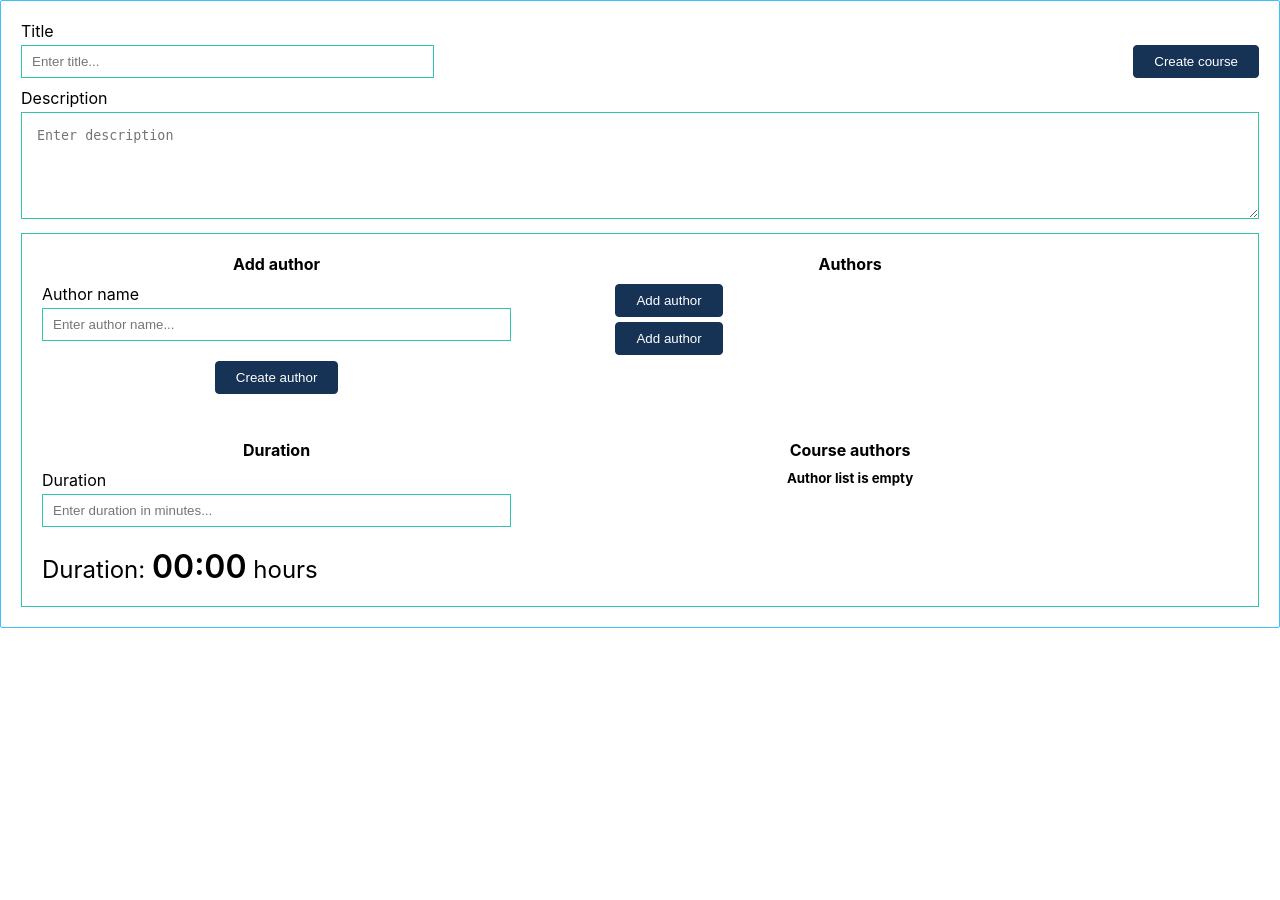
Test: CourseForm 'Delete author' button click should delete an author from the course list
Click the 1st button "Add author": (669, 300) [616,284,723,317]
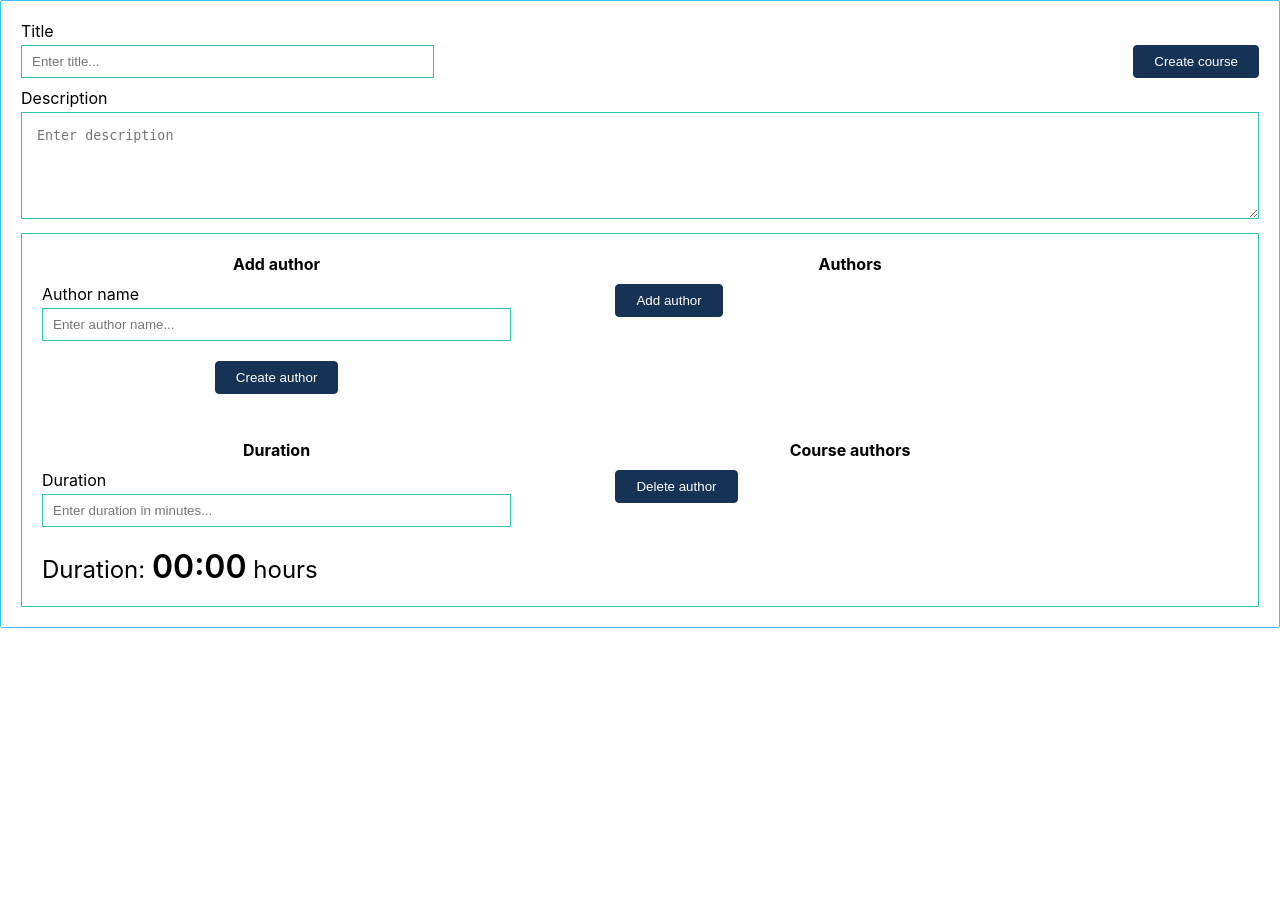
Check: the number of list items with test id "course-authors-item" is 1
Click the button "Delete author": (676, 486) [616,470,738,503]
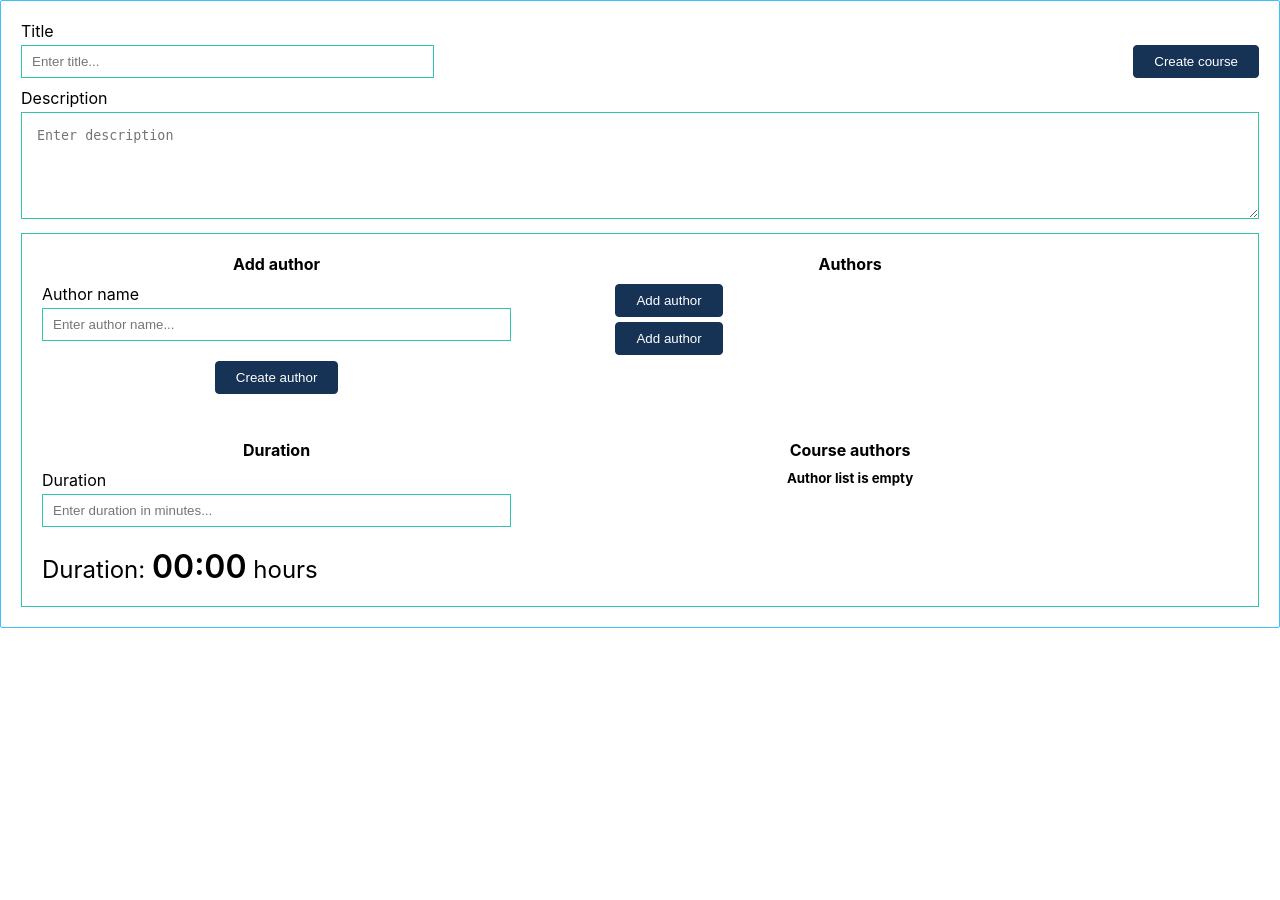
Check: the list "Delete author" is gone
